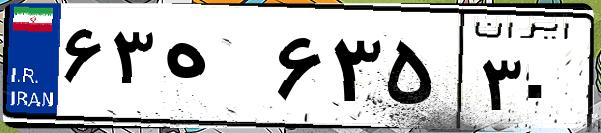0: (525, 38, 570, 115)
3: (330, 28, 385, 110), (475, 38, 525, 113), (110, 28, 158, 98)
5: (385, 28, 445, 110)
6: (270, 28, 330, 110), (57, 26, 110, 100)
ه: (158, 20, 270, 120)
